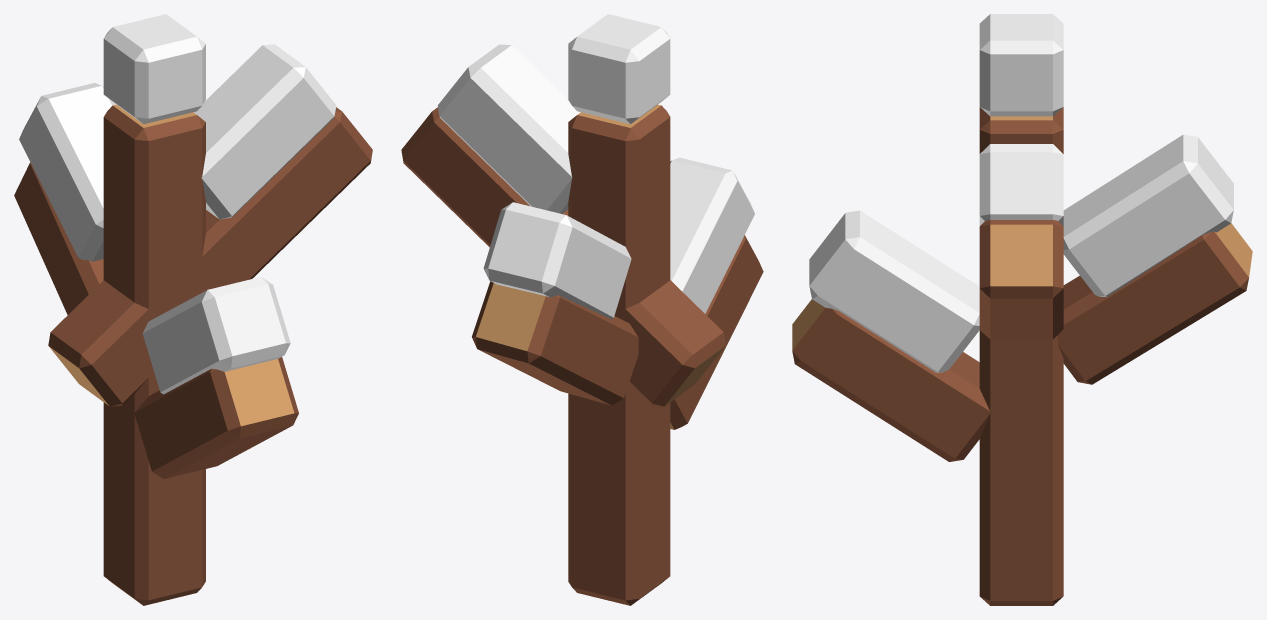
File: Bush 1.fbx
3 views of the same model, side by side, from view 1: azimuth 30°, elevation 25°; view 2: azimuth 150°, elevation 25°; view 3: azimuth 270°, elevation 25° (orthographic).
Visible parts, largest first — view 1: Trunk_1, Trunk_4, Snow_1, Trunk_2, Snow_2, Snow_3, Snow_5, Trunk_3; view 2: Trunk_1, Trunk_4, Snow_1, Trunk_3, Snow_3, Snow_5, Snow_2, Trunk_2; view 3: Trunk_1, Snow_2, Snow_3, Trunk_2, Trunk_3, Trunk_4, Snow_5, Snow_1.
Part boxes in pixels (x1=…): Trunk_1: x1=103, y1=104, x2=205, y2=605; Trunk_4: x1=48, y1=107, x2=372, y2=406; Snow_1: x1=194, y1=44, x2=336, y2=219; Trunk_2: x1=134, y1=357, x2=298, y2=478; Snow_2: x1=142, y1=277, x2=290, y2=394; Snow_3: x1=19, y1=83, x2=115, y2=261; Snow_5: x1=103, y1=14, x2=205, y2=124; Trunk_3: x1=14, y1=162, x2=103, y2=314; Trunk_1: x1=568, y1=104, x2=670, y2=605; Trunk_4: x1=401, y1=107, x2=725, y2=406; Snow_1: x1=437, y1=44, x2=580, y2=213; Trunk_3: x1=472, y1=281, x2=638, y2=405; Snow_3: x1=483, y1=202, x2=631, y2=319; Snow_5: x1=568, y1=14, x2=670, y2=124; Snow_2: x1=670, y1=157, x2=754, y2=313; Trunk_2: x1=670, y1=235, x2=763, y2=429; Trunk_1: x1=979, y1=107, x2=1063, y2=605; Snow_2: x1=809, y1=210, x2=979, y2=372; Snow_3: x1=1063, y1=134, x2=1233, y2=296; Trunk_2: x1=792, y1=299, x2=990, y2=461; Trunk_3: x1=1058, y1=223, x2=1252, y2=384; Trunk_4: x1=979, y1=220, x2=1063, y2=339; Snow_5: x1=979, y1=14, x2=1063, y2=116; Snow_1: x1=979, y1=144, x2=1063, y2=225.
Size of the model in its own units: 0.4116 by 0.745 by 0.5499.
